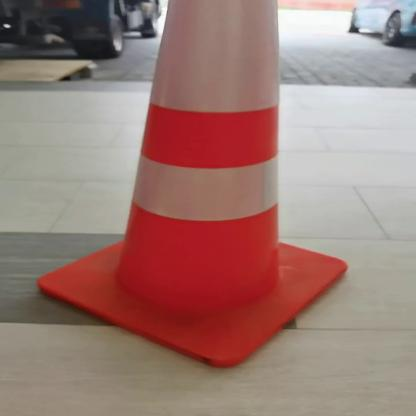cone: (20, 0, 362, 378)
